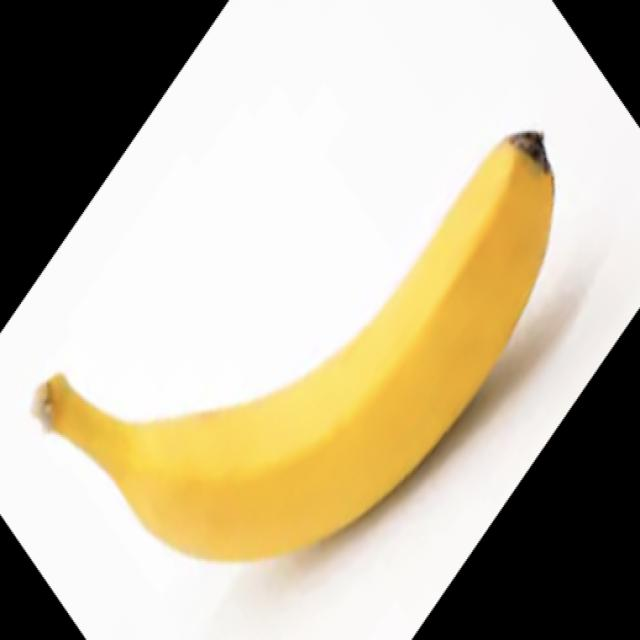god quality banana: (41, 133, 555, 562)
